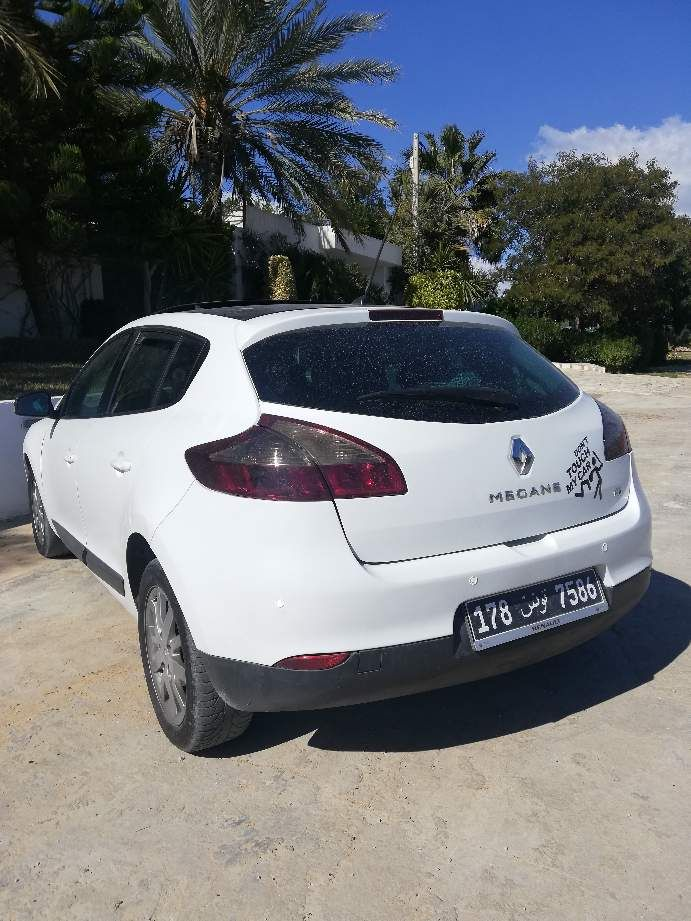LP: (464, 569, 603, 635)
